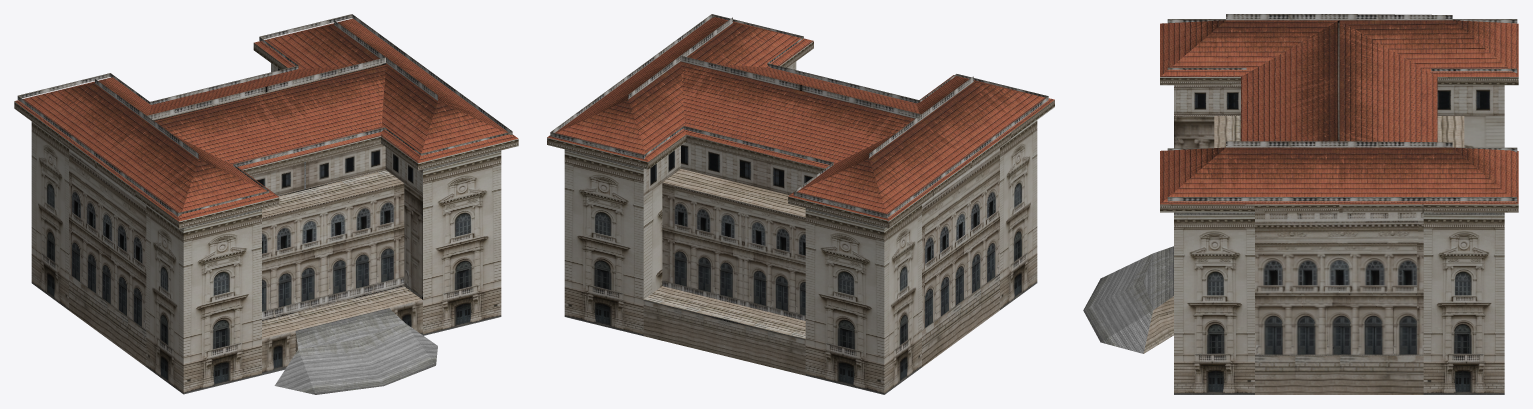
File: SM_Building_Governor_Palace.fbx
3 views of the same model, side by side, from view 1: azimuth 30°, elevation 25°; view 2: azimuth 150°, elevation 25°; view 3: azimuth 270°, elevation 25° (orthographic). The views are drawn at different scales.
Parts seen in each view (by area): view 1: SM_Building_Governor_Palace; view 2: SM_Building_Governor_Palace; view 3: SM_Building_Governor_Palace.
Boxes of the visible parts, bbox=[...] form: SM_Building_Governor_Palace: bbox=[14, 14, 518, 394]; SM_Building_Governor_Palace: bbox=[547, 14, 1054, 394]; SM_Building_Governor_Palace: bbox=[1083, 14, 1518, 394].
Size of the model in its own units: 49.13 by 29.51 by 50.02.
